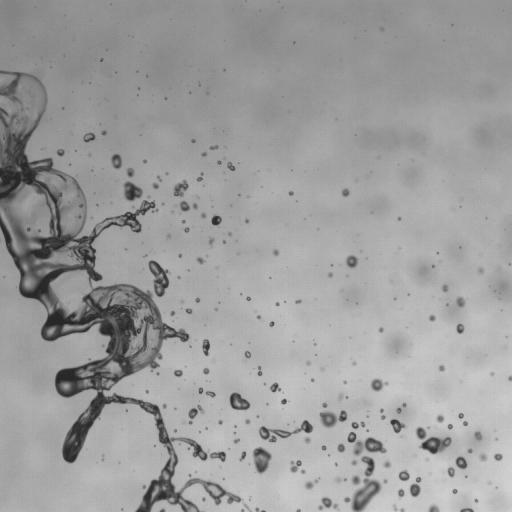droplet: (415, 427, 451, 454), (347, 432, 386, 455), (252, 447, 271, 473), (319, 410, 347, 427), (123, 181, 142, 201), (229, 392, 250, 410), (318, 496, 339, 510), (173, 179, 188, 196), (390, 418, 406, 433), (370, 378, 388, 391), (290, 460, 305, 473), (111, 154, 122, 169), (455, 456, 467, 469), (346, 255, 357, 267), (398, 470, 409, 481), (83, 132, 95, 142), (211, 214, 221, 225), (270, 382, 281, 392), (456, 296, 465, 307), (427, 504, 439, 511), (446, 467, 454, 477), (393, 504, 404, 511), (126, 168, 134, 177), (456, 324, 464, 333), (474, 431, 482, 440), (337, 443, 345, 452), (174, 369, 182, 377), (436, 414, 444, 422), (479, 453, 487, 461), (383, 460, 391, 468), (205, 391, 215, 397), (227, 162, 234, 170), (342, 188, 349, 196), (196, 257, 204, 264), (494, 453, 502, 460), (398, 489, 404, 498), (57, 149, 64, 156), (244, 350, 250, 358), (442, 284, 448, 291), (338, 393, 345, 399), (152, 182, 158, 188), (429, 315, 435, 321), (438, 365, 444, 371), (203, 368, 209, 374), (304, 437, 310, 443), (351, 459, 357, 465), (197, 174, 202, 181), (208, 238, 213, 245), (210, 145, 218, 149), (273, 249, 278, 255), (478, 267, 483, 273), (185, 308, 191, 313), (198, 387, 203, 393), (281, 399, 287, 404), (233, 438, 239, 443), (101, 130, 106, 135), (184, 227, 189, 232), (269, 321, 274, 326), (322, 402, 327, 407), (458, 413, 463, 418), (447, 424, 452, 429), (321, 445, 326, 450), (157, 176, 161, 181), (201, 213, 205, 218), (328, 272, 332, 277), (379, 327, 383, 332), (396, 408, 401, 412), (245, 419, 250, 423), (452, 489, 457, 493), (508, 375, 511, 381), (159, 508, 165, 511), (202, 152, 206, 156), (217, 160, 221, 164), (289, 191, 293, 195), (246, 296, 250, 300), (195, 298, 199, 302), (170, 311, 174, 315), (306, 361, 310, 365), (381, 415, 385, 419), (218, 420, 222, 424), (463, 421, 467, 425), (468, 449, 472, 453), (383, 479, 387, 483), (296, 300, 301, 303), (257, 315, 260, 319), (402, 403, 406, 406), (163, 404, 166, 408), (380, 409, 383, 413), (245, 219, 248, 222), (178, 254, 181, 257), (276, 302, 279, 305), (343, 380, 346, 383), (353, 361, 355, 365), (296, 509, 300, 511), (192, 139, 194, 142), (143, 160, 146, 162), (398, 217, 400, 220), (182, 220, 184, 223), (228, 233, 231, 235), (167, 235, 170, 237), (320, 368, 323, 370), (491, 372, 493, 375), (311, 379, 314, 381), (145, 390, 148, 392), (174, 429, 176, 432), (202, 498, 205, 500), (475, 499, 477, 502), (223, 241, 225, 243), (256, 415, 258, 417), (427, 426, 429, 428), (495, 438, 497, 440), (426, 458, 428, 460), (335, 463, 337, 465)
ligament: (0, 70, 252, 511), (344, 456, 381, 511), (259, 420, 313, 442), (188, 405, 203, 424), (409, 477, 421, 497), (179, 201, 197, 211), (304, 478, 319, 489), (202, 339, 209, 355), (351, 421, 365, 429), (239, 451, 246, 460), (460, 507, 474, 511), (335, 477, 346, 482), (254, 507, 265, 511), (257, 367, 261, 375)
